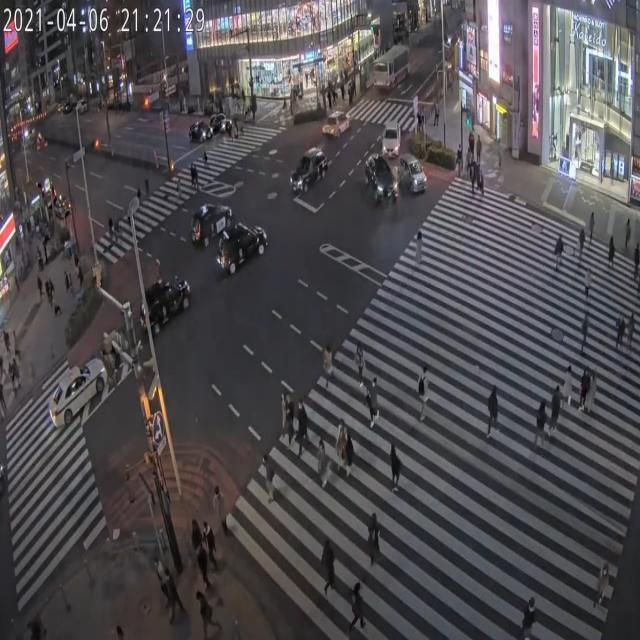humans: (376, 440, 416, 504), (187, 584, 220, 640), (366, 494, 387, 575), (594, 550, 614, 623), (318, 530, 338, 602), (258, 446, 279, 508), (364, 371, 386, 429), (347, 578, 367, 640), (414, 362, 434, 422), (518, 598, 546, 640), (163, 564, 184, 620), (314, 422, 329, 497), (350, 335, 369, 392), (548, 374, 565, 436), (330, 411, 348, 468), (294, 401, 310, 464), (212, 482, 230, 535), (201, 516, 219, 567), (486, 382, 502, 437), (550, 224, 566, 278), (562, 362, 578, 415), (319, 341, 334, 397), (196, 547, 213, 596), (284, 400, 298, 452), (152, 554, 168, 598), (278, 385, 290, 442), (536, 392, 548, 449), (587, 367, 600, 417), (412, 225, 426, 271), (580, 303, 590, 359), (605, 229, 616, 279), (580, 263, 594, 301), (586, 210, 600, 247), (344, 431, 356, 474), (189, 519, 204, 550), (630, 242, 640, 286), (468, 165, 479, 205), (620, 215, 632, 249), (576, 228, 586, 264), (475, 133, 484, 171), (581, 366, 590, 399), (456, 141, 464, 174), (628, 305, 633, 355), (615, 317, 621, 357), (465, 144, 473, 173), (477, 164, 482, 199), (468, 130, 474, 156)
